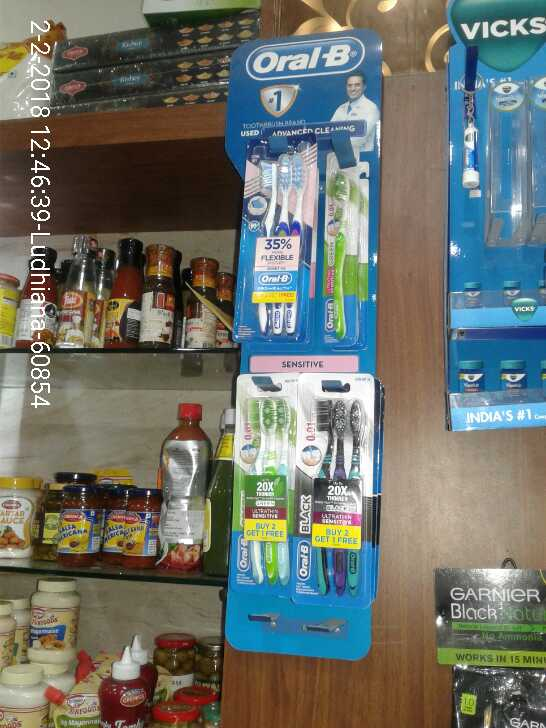pharmacy: (236, 154, 309, 339), (311, 389, 373, 593), (242, 387, 290, 588), (323, 169, 365, 345), (461, 89, 490, 188), (498, 354, 527, 397), (454, 355, 484, 395), (459, 273, 488, 312), (499, 269, 521, 312)
